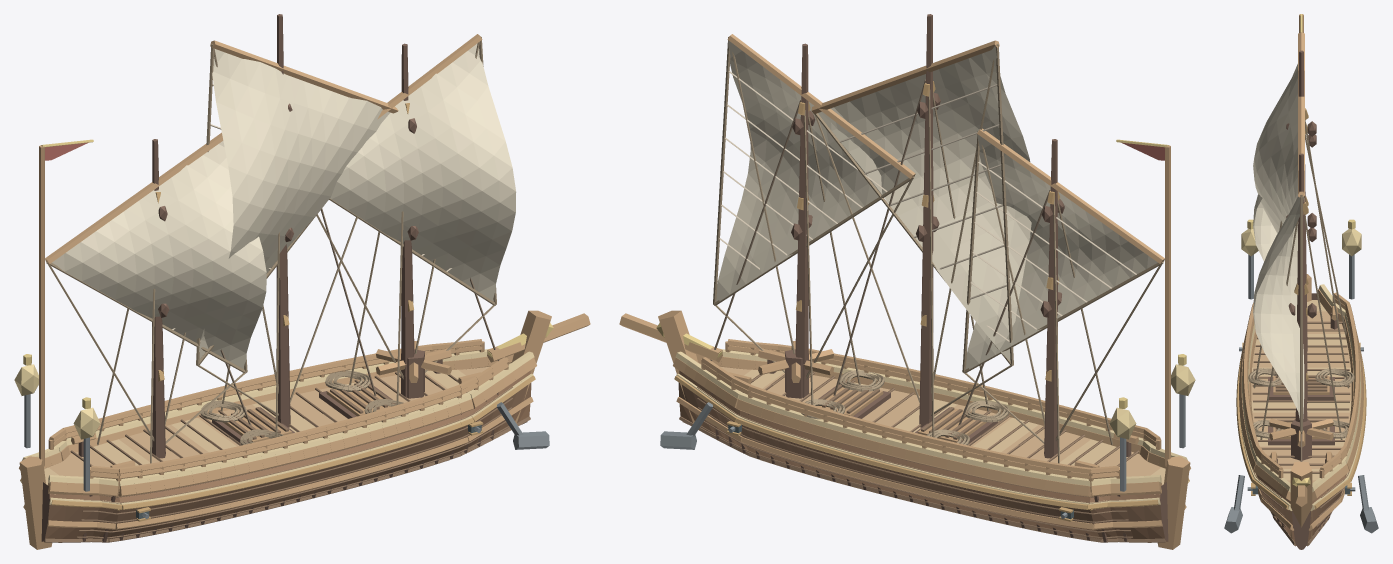
Rendered from caravel-v5-mobile.glb.
3 renders of one model, left to right at view 1: azimuth 30°, elevation 25°; view 2: azimuth 150°, elevation 25°; view 3: azimuth 270°, elevation 25°, orthographic. The views are drawn at different scales.
Parts seen in each view (by area): view 1: caravel_sails_sail, caravel_hull_wood, caravel_railings_wood, caravel_hull_seam, caravel_hull_pale, caravel_masts_darkwood, caravel_hull_hull2, caravel_hull_hull, caravel_rigging_rope, caravel_hull_deck, caravel_rigging_wood, caravel_hull_bronze (+11 smaller); view 2: caravel_sails_sail, caravel_hull_wood, caravel_masts_darkwood, caravel_rigging_rope, caravel_railings_wood, caravel_hull_seam, caravel_hull_pale, caravel_hull_hull2, caravel_hull_hull, caravel_rigging_wood, caravel_hull_deck, caravel_masts_rope (+13 smaller); view 3: caravel_sails_sail, caravel_hull_wood, caravel_hull_deck, caravel_railings_wood, caravel_hull_seam, caravel_masts_darkwood, caravel_hull_decklight, caravel_hull_pale, caravel_masts_rope, caravel_fittings_iron, caravel_fittings_darkwood, caravel_fittings_wood (+11 smaller).
Boxes of the visible parts, x1,y1,x2,y2 form: caravel_sails_sail: [52, 43, 516, 368]; caravel_hull_wood: [19, 310, 590, 549]; caravel_railings_wood: [48, 339, 508, 491]; caravel_hull_seam: [44, 372, 530, 542]; caravel_hull_pale: [21, 349, 534, 504]; caravel_masts_darkwood: [152, 14, 418, 458]; caravel_hull_hull2: [45, 370, 530, 539]; caravel_hull_hull: [42, 383, 531, 541]; caravel_rigging_rope: [46, 36, 496, 443]; caravel_hull_deck: [48, 363, 510, 493]; caravel_rigging_wood: [45, 34, 482, 264]; caravel_hull_bronze: [20, 376, 535, 510]; caravel_sails_sail: [715, 40, 1157, 369]; caravel_hull_wood: [619, 310, 1190, 549]; caravel_masts_darkwood: [791, 14, 1064, 458]; caravel_rigging_rope: [713, 36, 1163, 443]; caravel_railings_wood: [701, 339, 1161, 491]; caravel_hull_seam: [679, 372, 1165, 542]; caravel_hull_pale: [675, 349, 1188, 509]; caravel_hull_hull2: [679, 370, 1164, 539]; caravel_hull_hull: [678, 382, 1167, 541]; caravel_rigging_wood: [727, 34, 1164, 264]; caravel_hull_deck: [699, 363, 1161, 493]; caravel_masts_rope: [803, 90, 1112, 463]; caravel_sails_sail: [1253, 64, 1304, 419]; caravel_hull_wood: [1239, 274, 1363, 538]; caravel_hull_deck: [1251, 311, 1351, 482]; caravel_railings_wood: [1242, 292, 1360, 478]; caravel_hull_seam: [1252, 321, 1350, 546]; caravel_masts_darkwood: [1286, 50, 1316, 422]; caravel_hull_decklight: [1251, 300, 1351, 480]; caravel_hull_pale: [1240, 284, 1362, 510]; caravel_masts_rope: [1253, 120, 1349, 439]; caravel_fittings_iron: [1224, 254, 1378, 533]; caravel_fittings_darkwood: [1268, 313, 1338, 463]; caravel_fittings_wood: [1269, 306, 1337, 462].
Bounding box in the file's own units: 39.91 × 32.13 × 11.15.
